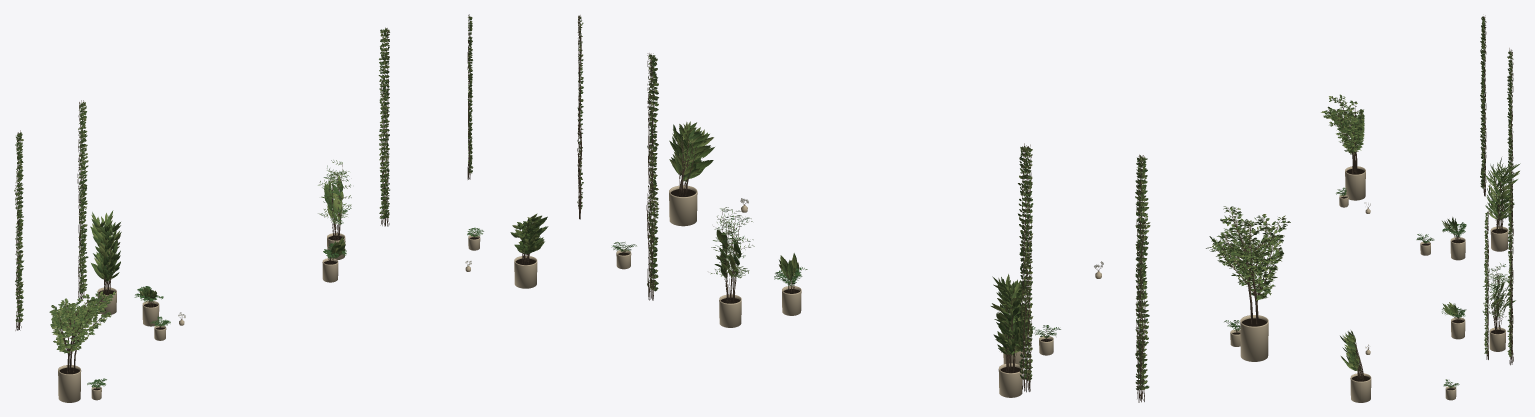
File: projection-botanical-v7.glb
3 renders of one model, left to right at view 1: azimuth 30°, elevation 25°; view 2: azimuth 150°, elevation 25°; view 3: azimuth 270°, elevation 25°, orthographic. The views are drawn at different scales.
Parts seen in each view (by area): view 1: Projection Botanical V7 | foliage small climbing leaves, Projection Botanical V7 | planter champagne brushed metal, Projection Botanical V7 | foliage slender areca and bamboo, Projection Botanical V7 | bark textured natural warm grey tr, Projection Botanical V7 | foliage mature ficus with fine ret, Projection Botanical V7 | foliage broad glossy tropical unde, Projection Botanical V7 | foliage fine fern pinnae, Projection Botanical V7 | bark slender olive brown stems, Projection Botanical V7 | soil dark coarse planting substrat; view 2: Projection Botanical V7 | foliage small climbing leaves, Projection Botanical V7 | bark textured natural warm grey tr, Projection Botanical V7 | planter champagne brushed metal, Projection Botanical V7 | foliage slender areca and bamboo, Projection Botanical V7 | foliage mature ficus with fine ret, Projection Botanical V7 | foliage broad glossy tropical unde, Projection Botanical V7 | bark slender olive brown stems, Projection Botanical V7 | foliage fine fern pinnae, Projection Botanical V7 | soil dark coarse planting substrat; view 3: Projection Botanical V7 | planter champagne brushed metal, Projection Botanical V7 | foliage small climbing leaves, Projection Botanical V7 | bark textured natural warm grey tr, Projection Botanical V7 | foliage slender areca and bamboo, Projection Botanical V7 | foliage mature ficus with fine ret, Projection Botanical V7 | foliage broad glossy tropical unde, Projection Botanical V7 | bark slender olive brown stems, Projection Botanical V7 | foliage fine fern pinnae, Projection Botanical V7 | soil dark coarse planting substrat.
Boxes of the visible parts, x1,y1,x2,y2 form: Projection Botanical V7 | foliage small climbing leaves: (14, 16, 473, 322); Projection Botanical V7 | planter champagne brushed metal: (58, 233, 537, 402); Projection Botanical V7 | foliage slender areca and bamboo: (90, 160, 548, 281); Projection Botanical V7 | bark textured natural warm grey tr: (15, 14, 529, 373); Projection Botanical V7 | foliage mature ficus with fine ret: (49, 291, 115, 353); Projection Botanical V7 | foliage broad glossy tropical unde: (100, 175, 539, 299); Projection Botanical V7 | foliage fine fern pinnae: (87, 227, 483, 387); Projection Botanical V7 | bark slender olive brown stems: (54, 23, 529, 389); Projection Botanical V7 | soil dark coarse planting substrat: (59, 235, 535, 390); Projection Botanical V7 | foliage small climbing leaves: (577, 16, 1150, 390); Projection Botanical V7 | bark textured natural warm grey tr: (577, 15, 1280, 402); Projection Botanical V7 | planter champagne brushed metal: (616, 185, 1268, 397); Projection Botanical V7 | foliage slender areca and bamboo: (669, 121, 1027, 355); Projection Botanical V7 | foliage mature ficus with fine ret: (1206, 206, 1290, 300); Projection Botanical V7 | foliage broad glossy tropical unde: (674, 143, 1030, 348); Projection Botanical V7 | bark slender olive brown stems: (579, 23, 1286, 388); Projection Botanical V7 | foliage fine fern pinnae: (611, 242, 1240, 338); Projection Botanical V7 | soil dark coarse planting substrat: (618, 188, 1266, 373); Projection Botanical V7 | planter champagne brushed metal: (1339, 166, 1508, 402); Projection Botanical V7 | foliage small climbing leaves: (1480, 16, 1513, 356); Projection Botanical V7 | bark textured natural warm grey tr: (1329, 15, 1513, 380); Projection Botanical V7 | foliage slender areca and bamboo: (1340, 157, 1520, 370); Projection Botanical V7 | foliage mature ficus with fine ret: (1321, 94, 1364, 154); Projection Botanical V7 | foliage broad glossy tropical unde: (1347, 184, 1515, 368); Projection Botanical V7 | bark slender olive brown stems: (1327, 70, 1512, 389); Projection Botanical V7 | foliage fine fern pinnae: (1336, 187, 1466, 387); Projection Botanical V7 | soil dark coarse planting substrat: (1341, 168, 1507, 390).
Size of the model in its own units: 14.33 by 5.97 by 5.57.
Materials: 11 (8 with a texture image).
